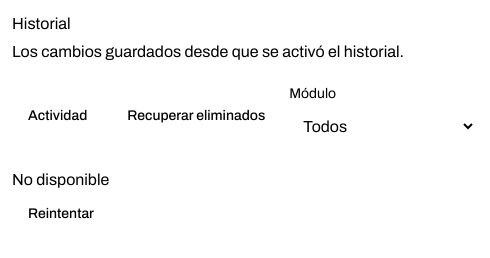
Test: successful history retry clears the obsolete error
Click the button "Reintentar" at {"x": 61, "y": 214}, box [12, 192, 110, 236]
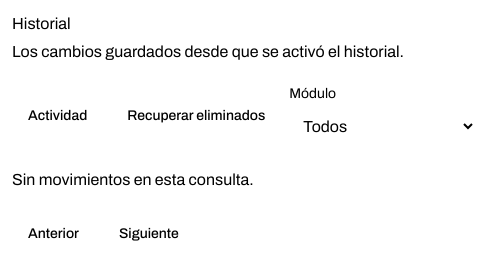
Expected: the message "No disponible Reintentar" is gone
